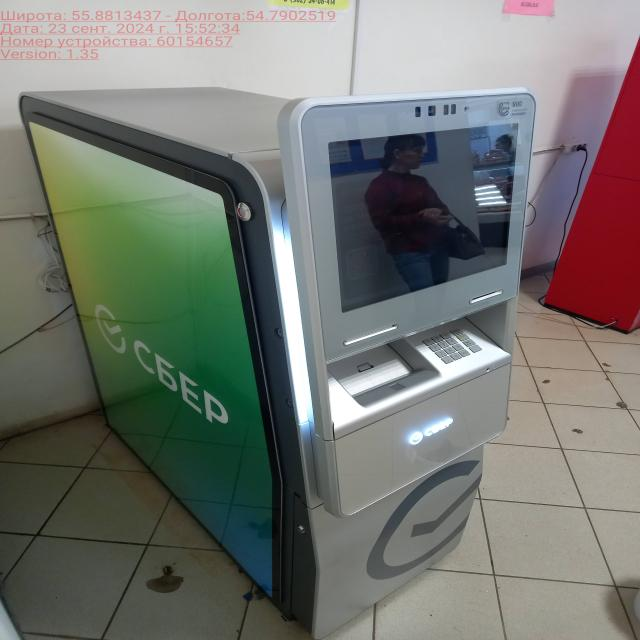bank: (21, 86, 532, 640)
